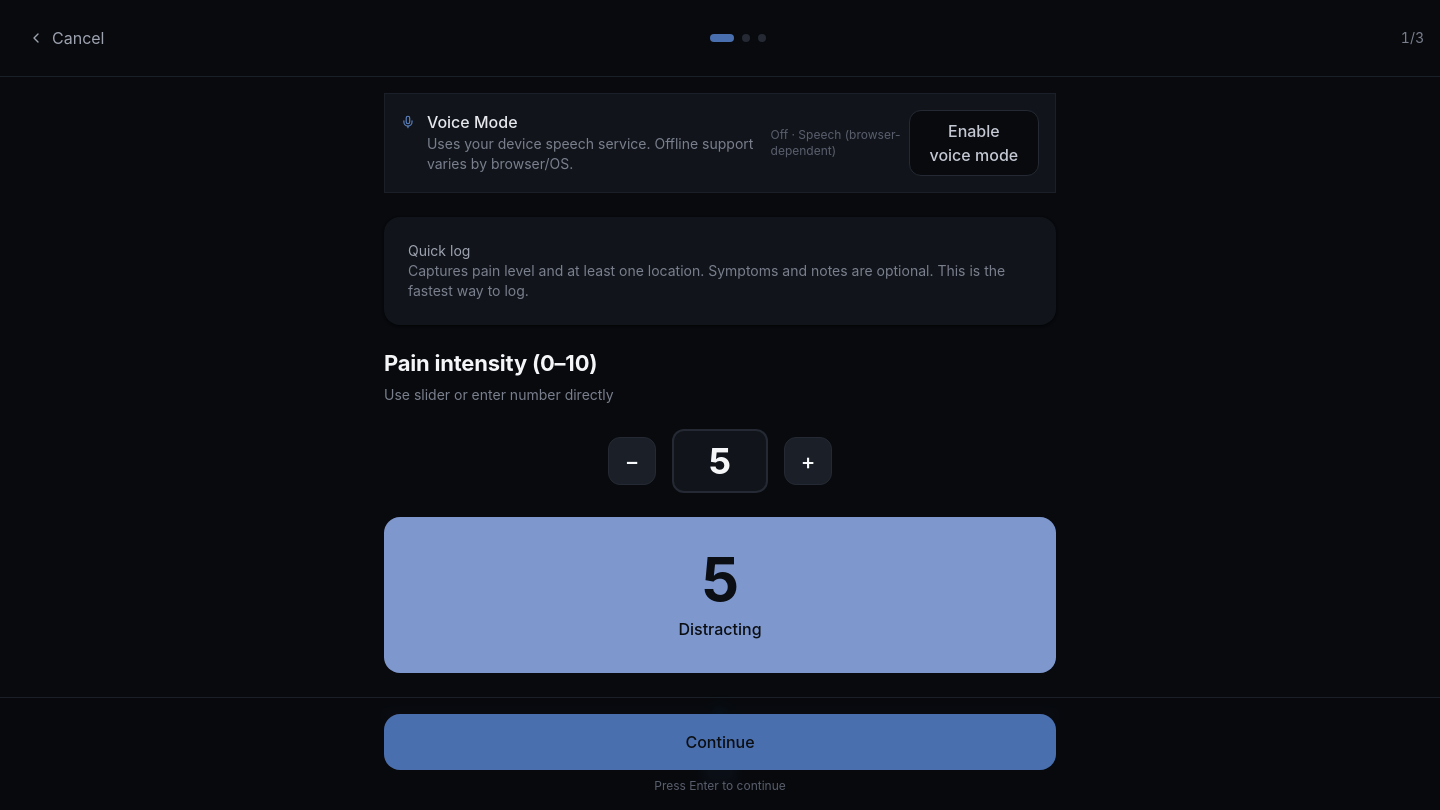
Accessibility Tests › QuickLogStepper › should have fieldset/legend for location tags
# Navigate to step 2
What coordinates should you click on to do the following:
click the button "Continue"
I would click on:
 (720, 742)
Its box is x1=384 y1=714 x2=1056 y2=770.
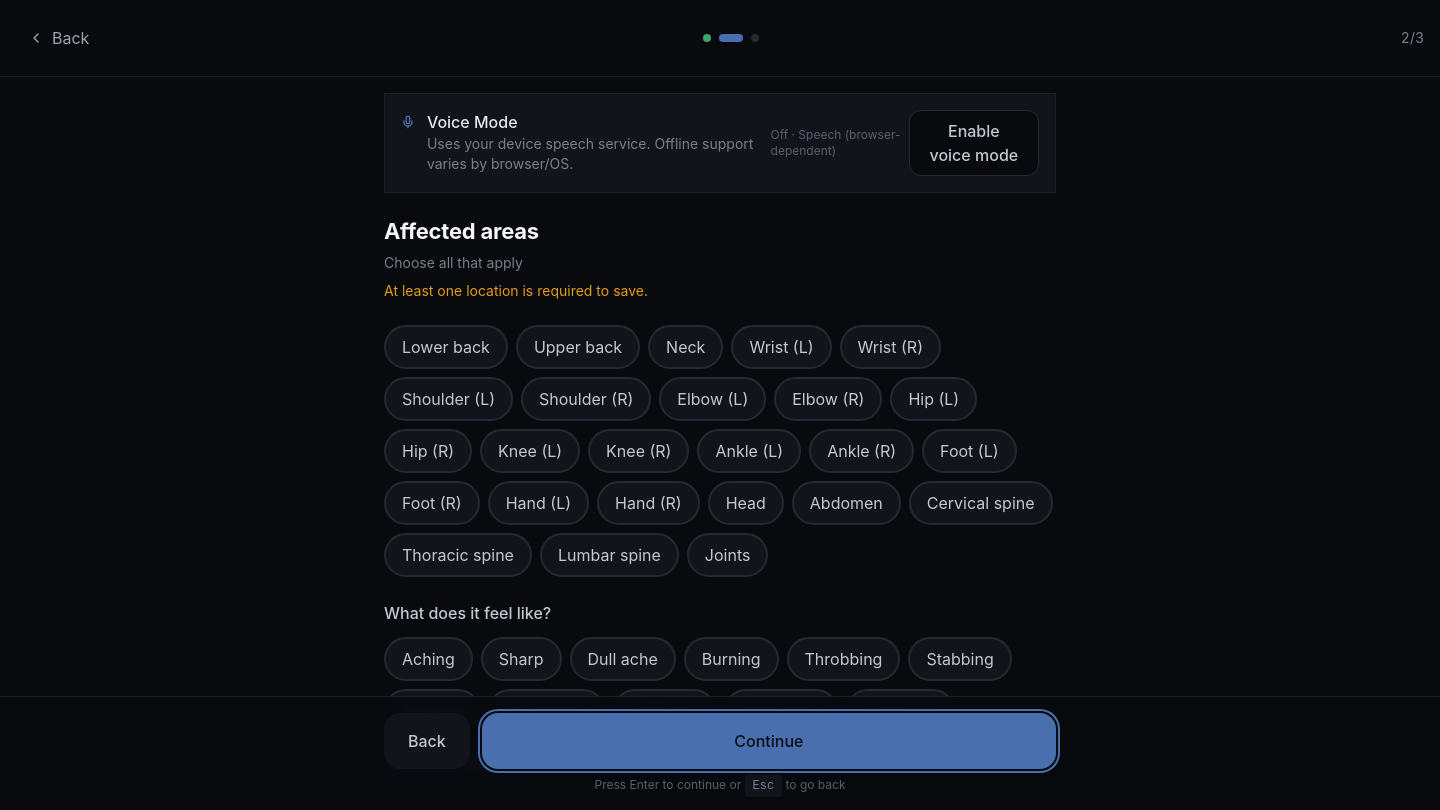
Result: the element that starts with "Lower back" is shown at x1=384 y1=325 x2=1056 y2=577
